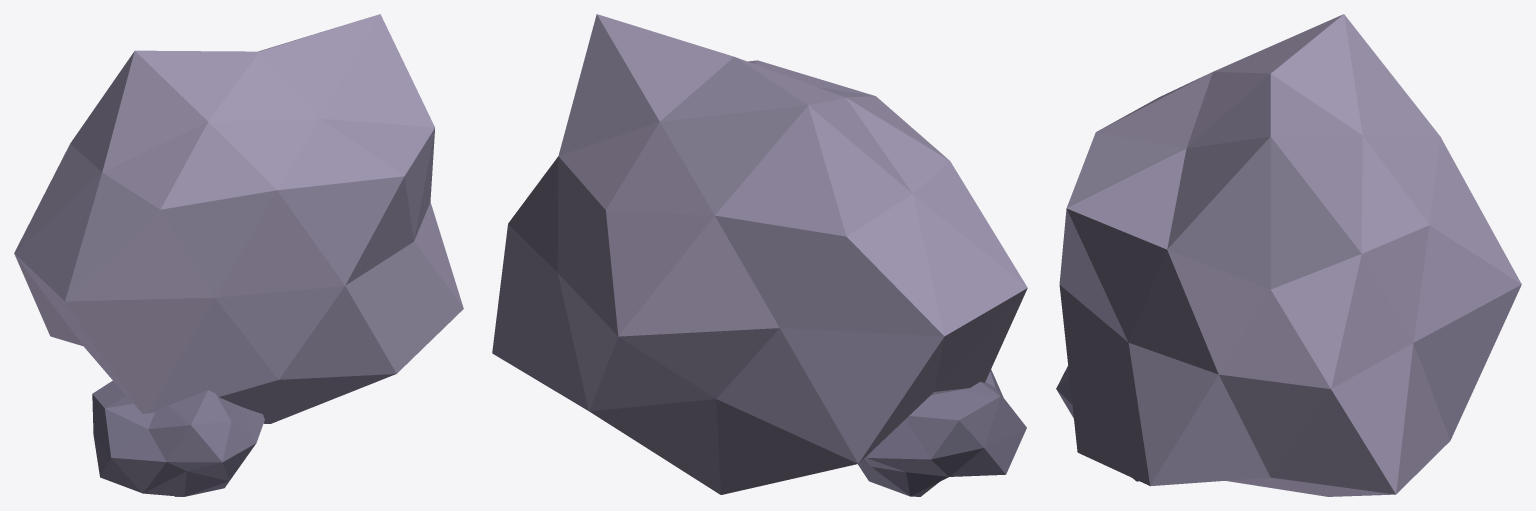
The model's file is kit__boulder_b.fbx.
3 views of the same model, side by side, from view 1: azimuth 30°, elevation 25°; view 2: azimuth 150°, elevation 25°; view 3: azimuth 270°, elevation 25° (orthographic). The views are drawn at different scales.
Visible parts, largest first — view 1: kit__boulder_b; view 2: kit__boulder_b; view 3: kit__boulder_b.
Part boxes in pixels (left/top/right/bottom): kit__boulder_b: left=14, top=14, right=463, bottom=496; kit__boulder_b: left=492, top=14, right=1027, bottom=496; kit__boulder_b: left=1056, top=14, right=1521, bottom=496.
Size of the model in its own units: 2.91 by 2.73 by 2.38.
